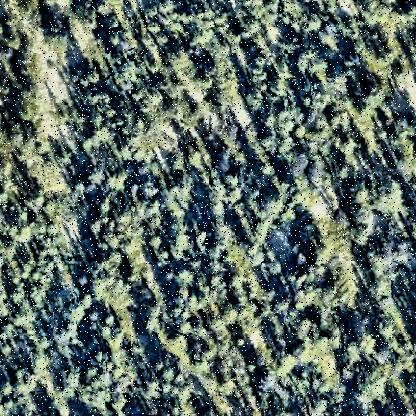tree-top: (351, 364, 395, 410), (92, 272, 136, 314), (289, 338, 331, 374), (66, 9, 101, 49), (375, 179, 409, 219), (11, 85, 43, 123), (351, 329, 380, 360), (12, 367, 40, 397), (141, 299, 167, 330), (242, 82, 270, 110), (346, 180, 374, 208), (22, 138, 46, 170), (42, 15, 70, 42), (372, 316, 401, 342), (59, 364, 84, 394), (78, 65, 104, 93), (141, 91, 166, 118), (210, 393, 239, 416), (90, 165, 116, 188), (105, 330, 130, 353), (362, 87, 385, 111), (54, 327, 78, 349), (355, 208, 377, 232), (395, 1, 416, 25), (258, 367, 280, 389), (311, 245, 333, 267), (173, 267, 197, 287), (289, 154, 313, 174), (142, 180, 162, 204), (146, 232, 168, 253), (97, 194, 117, 216), (254, 222, 276, 242), (24, 190, 44, 211), (216, 225, 234, 248), (86, 165, 106, 185), (66, 298, 86, 318), (142, 56, 164, 74), (14, 223, 36, 241), (178, 319, 194, 343), (105, 12, 125, 30), (1, 45, 18, 65), (309, 400, 330, 416), (225, 304, 243, 322), (148, 376, 164, 396), (307, 15, 324, 31)
